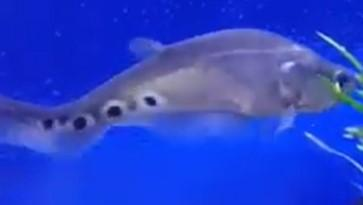Knifefish: (0, 26, 355, 161)
